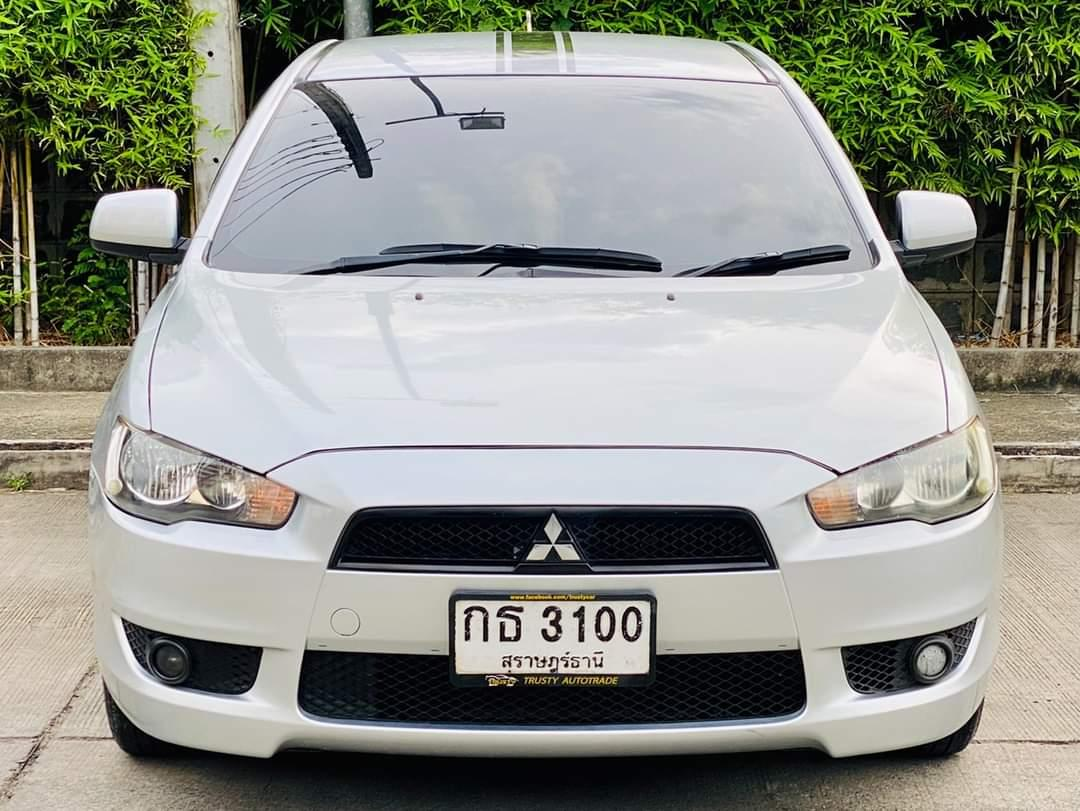license-plate: (444, 587, 660, 692)
